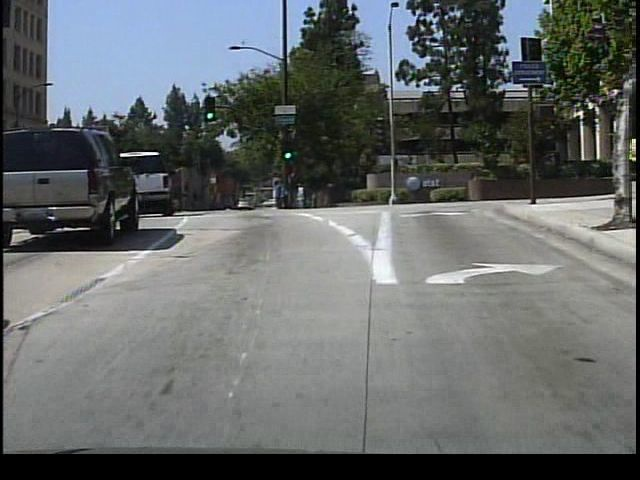person: (269, 172, 289, 211), (293, 178, 310, 211)
